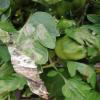Tomato leaf late blight: (17, 23, 50, 66), (30, 8, 59, 51), (59, 58, 99, 86), (65, 27, 99, 50)
